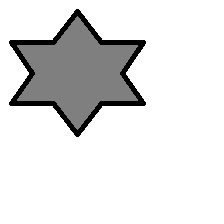star: (9, 8, 145, 136)
